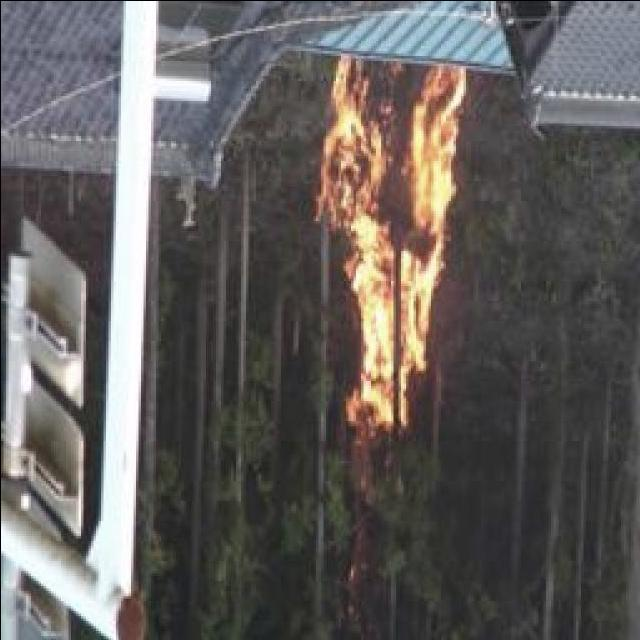Fire: (308, 58, 476, 438)
